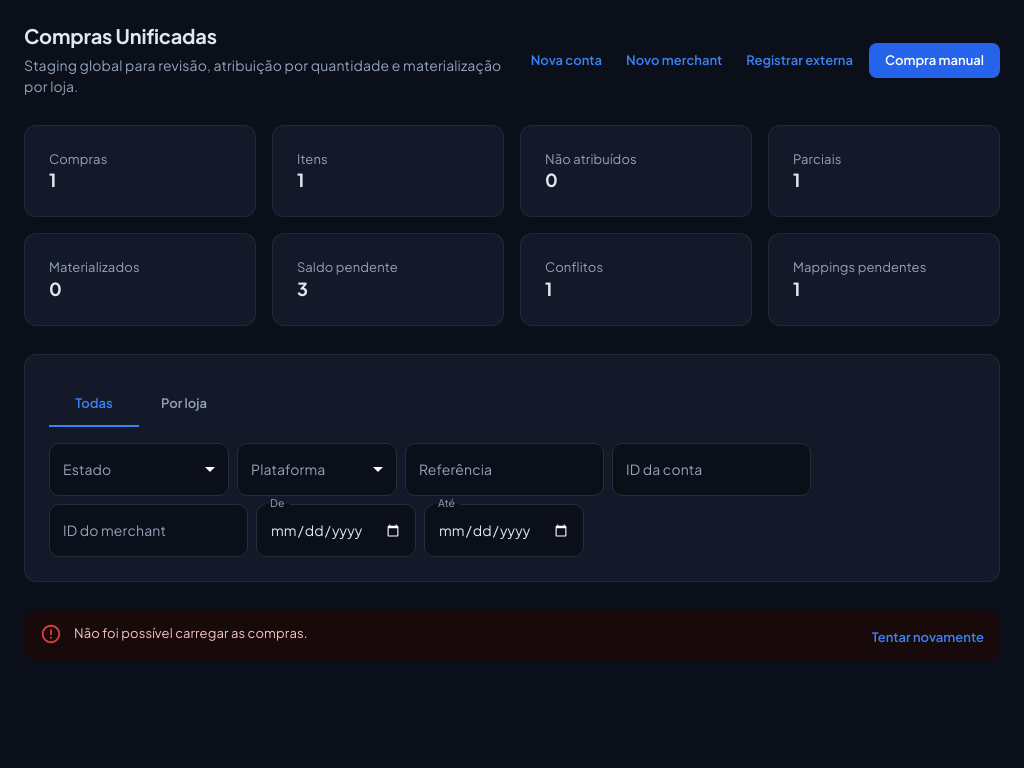
Test: Compras Unificadas › exibe vazio, erro e retry sem fabricar dados
The image size is (1024, 768).
Expected: the text "Não foi possível carregar as compras." is shown, top-left (74, 625), bottom-right (308, 641)
Click the button "Tentar novamente": x=928, y=638 top-left (864, 620), bottom-right (992, 655)
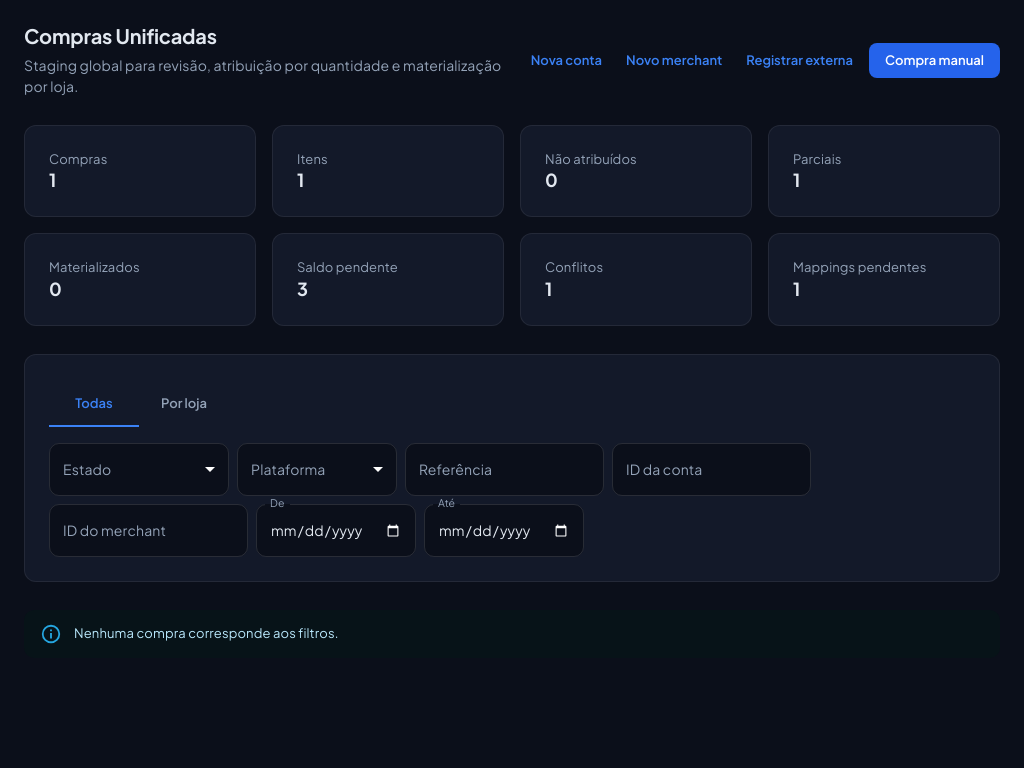
Expected: the text "Nenhuma compra corresponde aos filtros." is shown, top-left (74, 625), bottom-right (338, 641)
